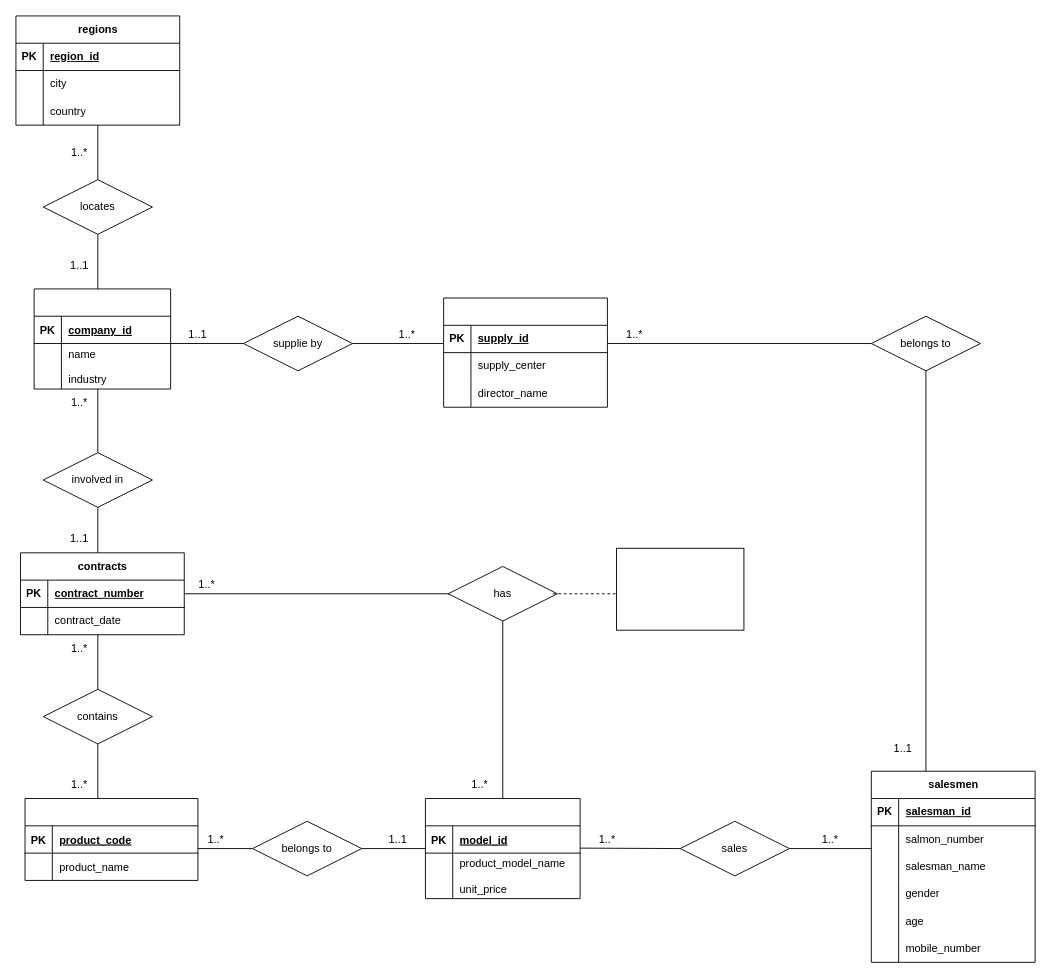
This 1051x978 diagram has some shape labels left out. The box of each missing label's shape, as (x1, y1, x2, y2) in pixels:
enterprise: (33, 288, 171, 389)
product_models: (425, 798, 580, 899)
products: (24, 798, 198, 880)
quantity estimated_delivery_date lodgement_date: (616, 547, 744, 630)
supply_centers: (443, 297, 607, 407)
